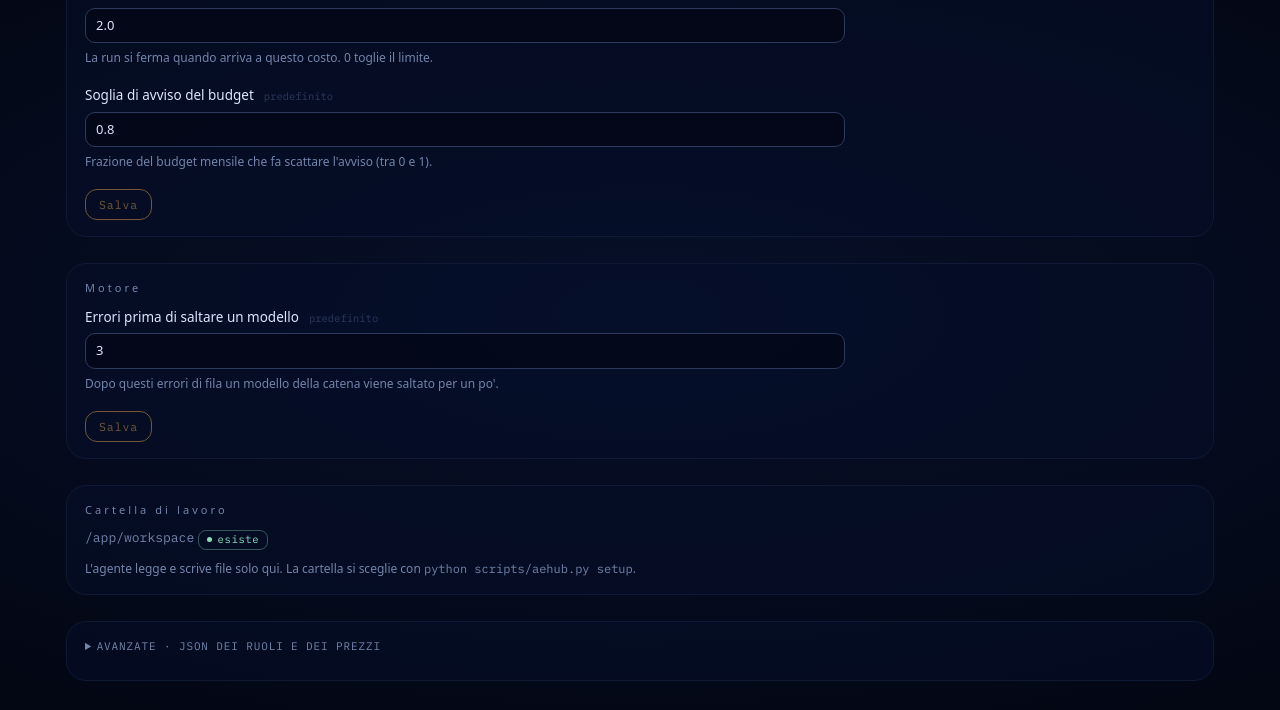
SettingsPage › shows every section and saves an engine setting
(page scrolled)
Expected: the heading "Motore" is shown, [85,280,141,295]
Expected: the heading "Cartella di lavoro" is shown, [85,502,228,517]
Type "2" into the field labelled "Errori prima di saltare un modello" at (465, 351), box [85,333,845,368]
(page scrolled)
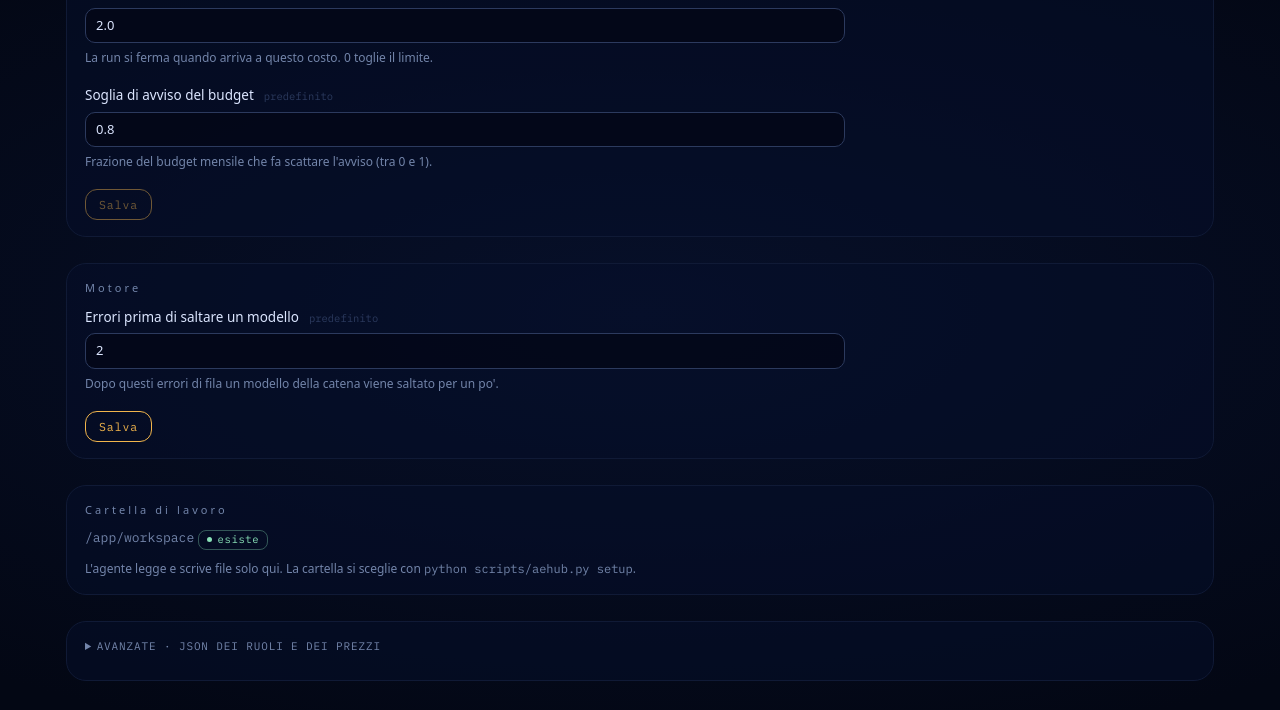
Click the button "Salva" below "Errori prima di saltare un modello" at (119, 426), box [85,410,152,442]
(page scrolled)
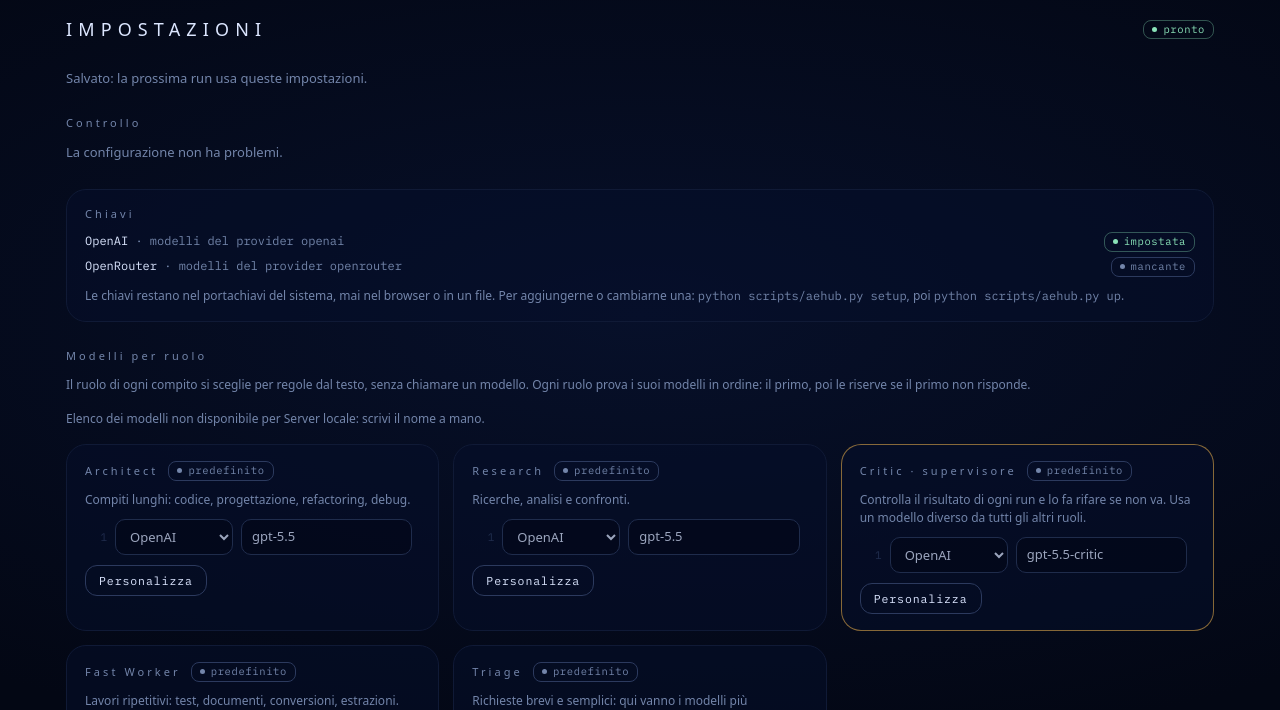
Expected: the text "Salvato: la prossima run usa queste impostazioni." is shown, [66,69,367,87]
